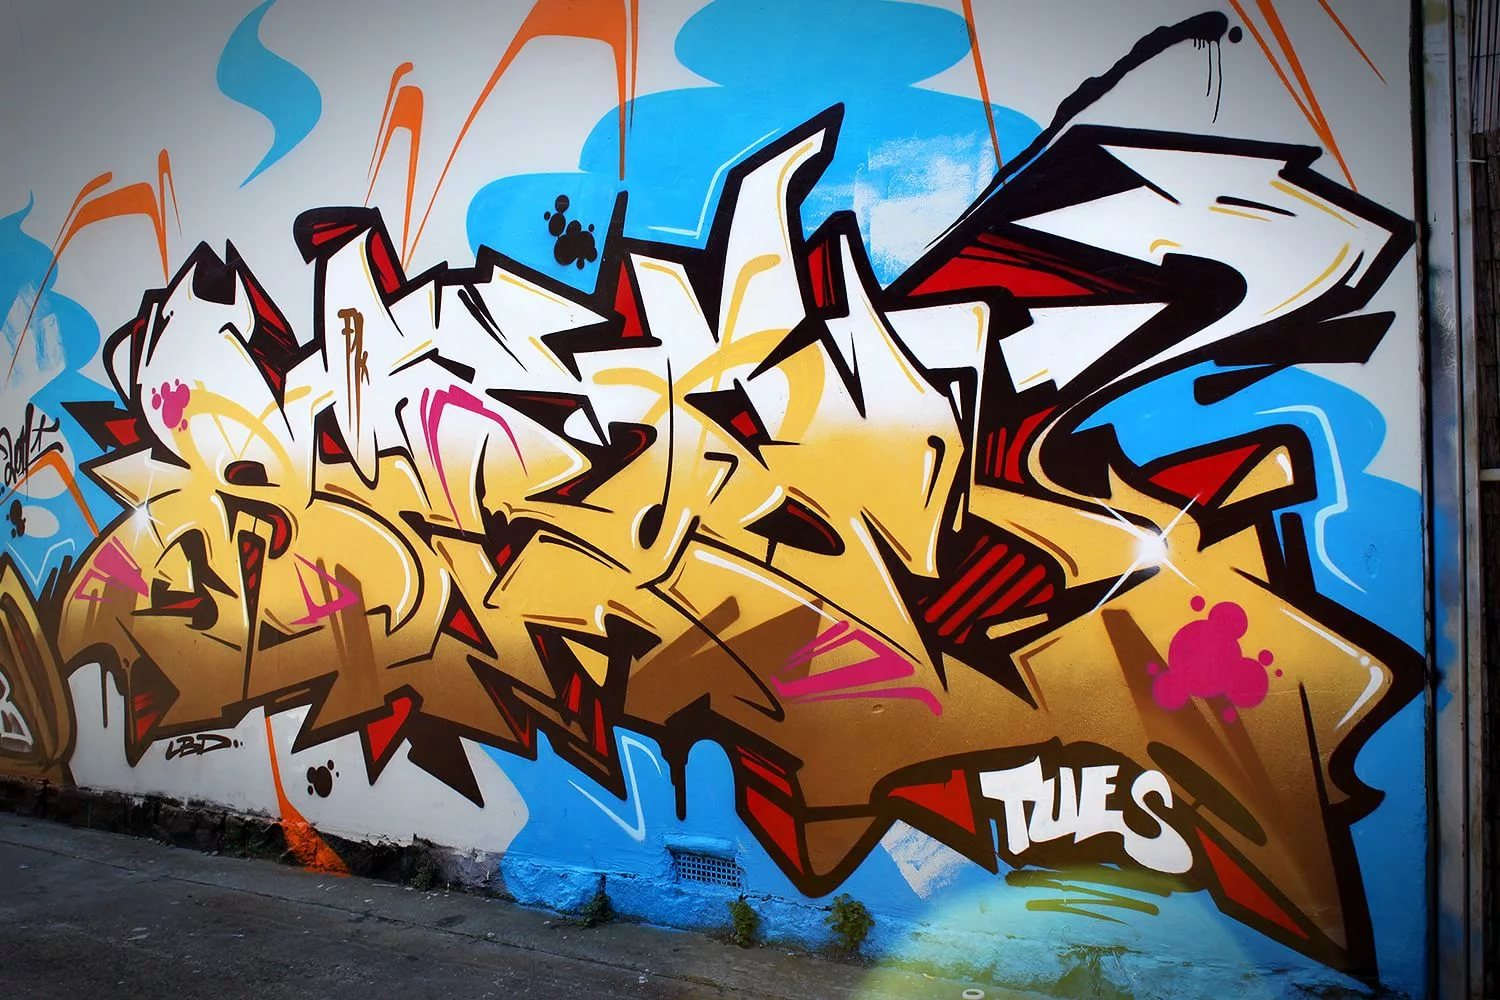graphite: (52, 187, 1449, 925), (974, 757, 1206, 890)
